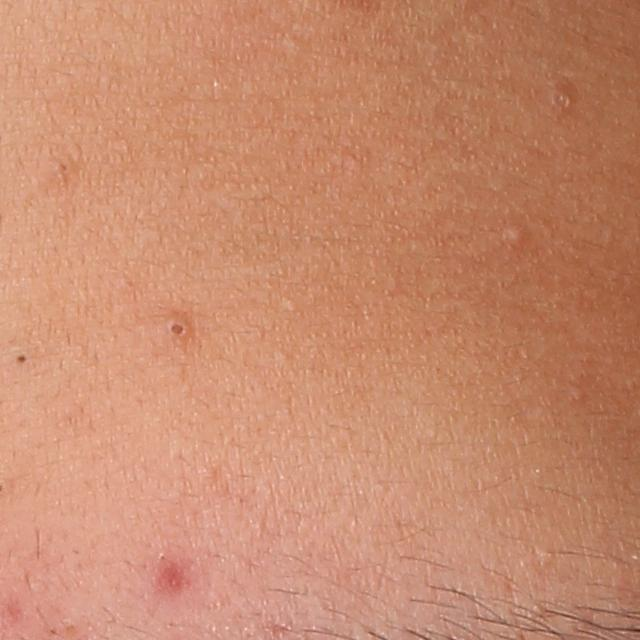comedo: (504, 221, 530, 247), (166, 315, 188, 340), (548, 88, 570, 110), (13, 349, 34, 369)
